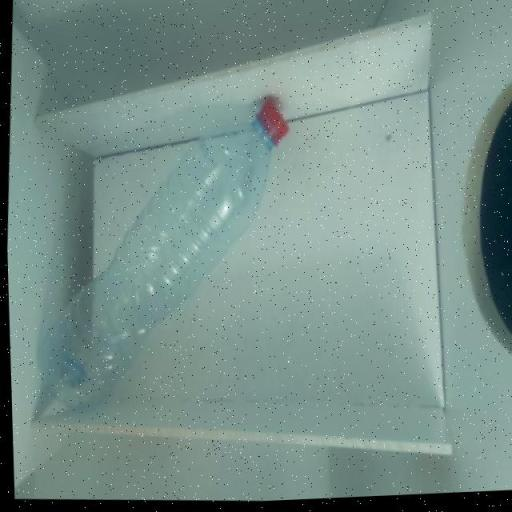plastic: (34, 102, 290, 409)
